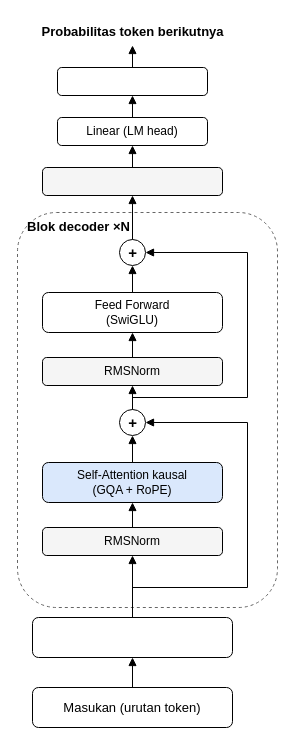
Image size: 295x745. Some labels were removed from this diagram. The shapes that lost their labels are listed below. From the top down, each one's centre as x and y in pixels, then its label:
At (132,81): "Softmax".
At (132,181): "RMSNorm akhir".
At (132,637): "Embedding token".
